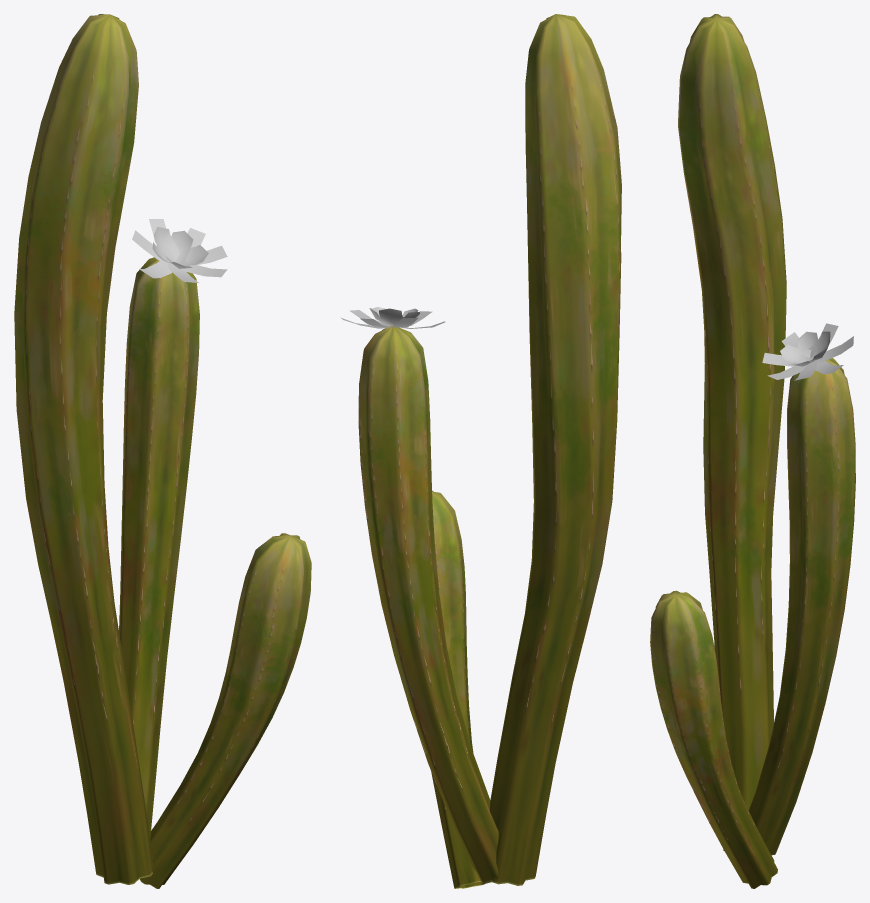
Rendered from SM_Cactus03.fbx.
The picture shows the model from 3 angles, left to right: view 1: azimuth 30°, elevation 25°; view 2: azimuth 150°, elevation 25°; view 3: azimuth 270°, elevation 25°; orthographic projection. The views are drawn at different scales.
Visible parts, largest first — view 1: SM_Cactus03; view 2: SM_Cactus03; view 3: SM_Cactus03.
Part boxes in pixels (x1,y1,x2,y2): SM_Cactus03: (14, 14, 311, 888); SM_Cactus03: (340, 14, 621, 888); SM_Cactus03: (650, 14, 855, 888).
Size of the model in its own units: 222 by 760 by 170.
